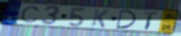3: (40, 5, 61, 26)
5: (67, 7, 88, 28)
C: (19, 5, 42, 24)
D: (115, 9, 138, 30)
K: (90, 8, 111, 28)
T: (142, 11, 160, 31)
